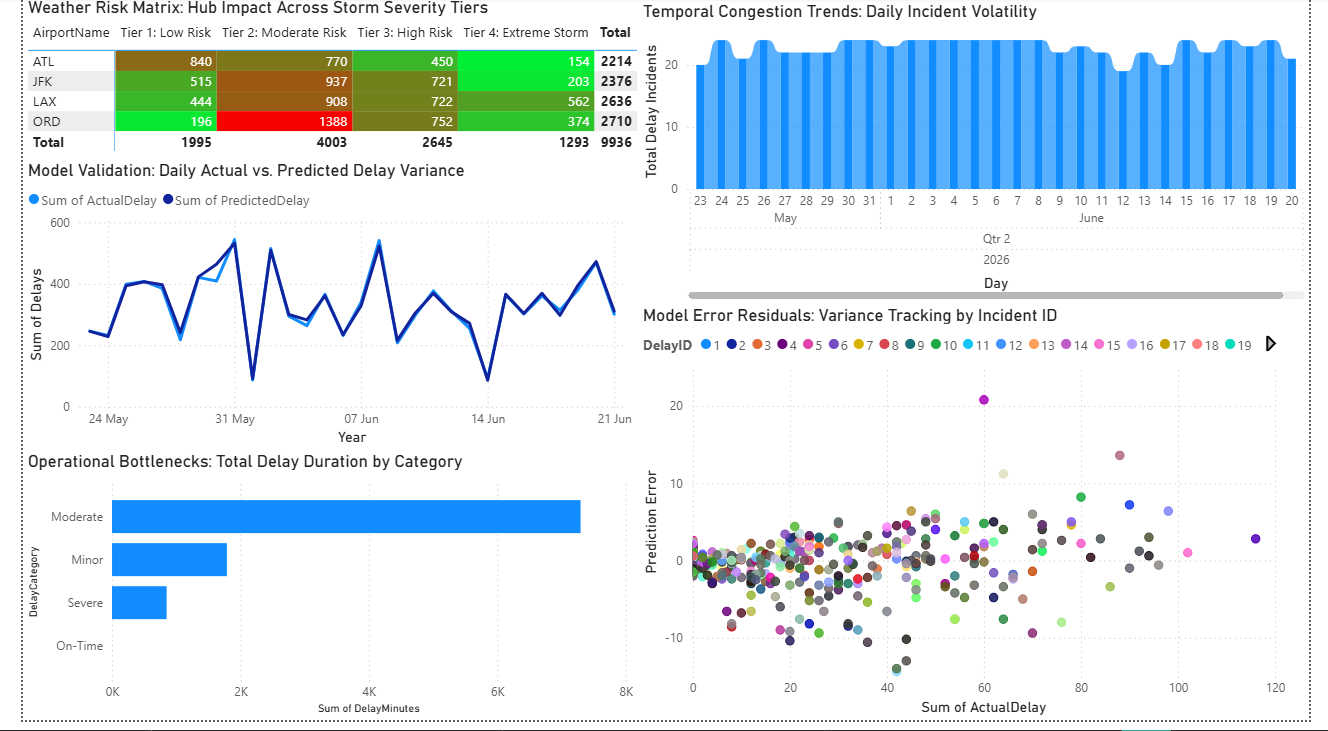

What the dashboard file says about the page in this screenshot:
{"tool":"powerbi","page":{"name":"Root-Cause Delay & Predictive Analytics","canvas":[1280,720],"ordinal":1},"visuals":[{"type":"pivotTable","title":"Weather Risk Matrix: Hub Impact Across Storm Severity Tiers","fields":{"Rows":["Dim_Airport.AirportName"],"Columns":["Dim_Weather.Weather Severity Tier"],"Values":["Dim_Airport.Total_Delay_Minutes"]},"box":[0,0,622.7,161.6],"z":0},{"type":"lineChart","title":"Model Validation: Daily Actual vs. Predicted Delay Variance","fields":{"Category":["Dim_Weather.Date.Variation.Date Hierarchy.Year","Dim_Weather.Date.Variation.Date Hierarchy.Quarter","Dim_Weather.Date.Variation.Date Hierarchy.Month","Dim_Weather.Date.Variation.Date Hierarchy.Day"],"Y":["Sum(Fact_Delays.ActualDelay)","Sum(Fact_Delays.PredictedDelay)"]},"box":[0,161.6,611.6,289.8],"z":1000},{"type":"ribbonChart","title":"Temporal Congestion Trends: Daily Incident Volatility","fields":{"Y":["Dim_Airport.Total Delay Incidents"],"Category":["Dim_Date.Date.Variation.Date Hierarchy.Year","Dim_Date.Date.Variation.Date Hierarchy.Quarter","Dim_Date.Date.Variation.Date Hierarchy.Month","Dim_Date.Date.Variation.Date Hierarchy.Day"]},"box":[611.6,4.2,668.7,302.3],"z":2000},{"type":"scatterChart","title":"Model Error Residuals: Variance Tracking by Incident ID","fields":{"X":["Sum(Fact_Delays.ActualDelay)"],"Series":["Fact_Delays.DelayID"],"Y":["Dim_Airport.Prediction Error"]},"box":[611.6,306.5,649.2,413.8],"z":3000},{"type":"barChart","title":"Operational Bottlenecks: Total Delay Duration by Category","fields":{"Category":["Fact_Delays.DelayCategory"],"Y":["Sum(Fact_Flights.DelayMinutes)"]},"box":[0,452,612,268],"z":4000}]}

Visuals, with their boxes in screenshot pixels (x1, y1, x2, y2), scaled from the page's 1280x720 canvas onto the 1328x731 screenshot:
"Weather Risk Matrix: Hub Impact Across Storm Severity Tiers" pivotTable: box(0, 0, 646, 164)
"Model Validation: Daily Actual vs. Predicted Delay Variance" lineChart: box(0, 164, 635, 458)
"Temporal Congestion Trends: Daily Incident Volatility" ribbonChart: box(635, 4, 1327, 311)
"Model Error Residuals: Variance Tracking by Incident ID" scatterChart: box(635, 311, 1308, 730)
"Operational Bottlenecks: Total Delay Duration by Category" barChart: box(0, 459, 635, 730)
